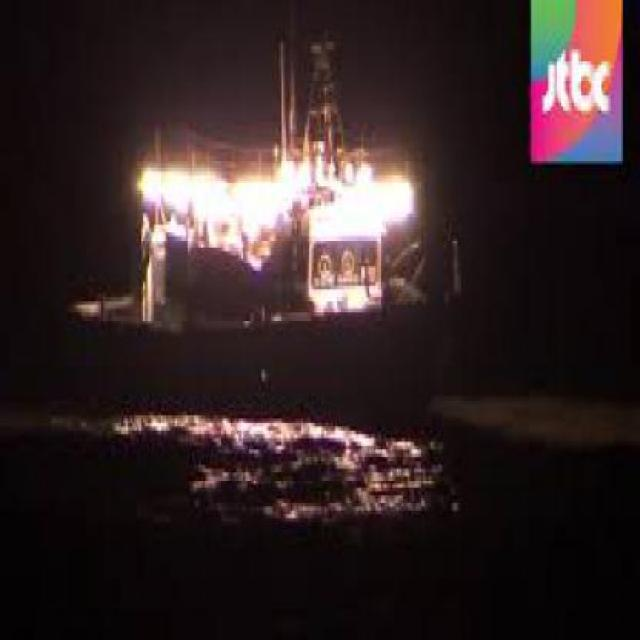fish-b: (44, 12, 484, 447)
